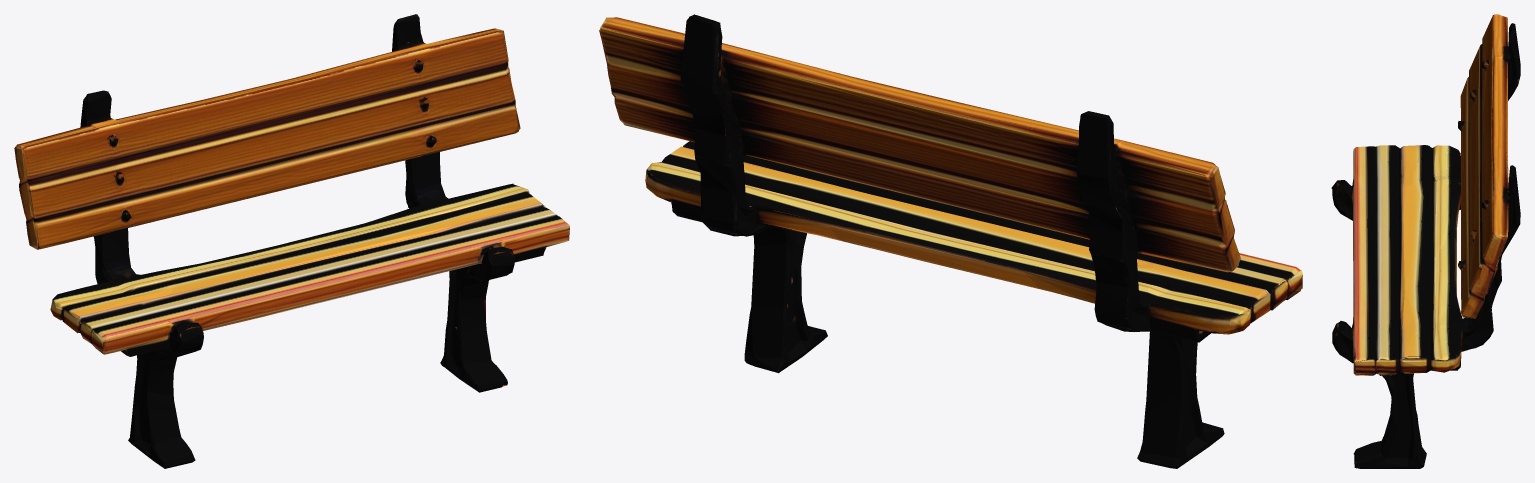
The model's file is bench-hy3d.glb.
3 views of the same model, side by side, from view 1: azimuth 30°, elevation 25°; view 2: azimuth 150°, elevation 25°; view 3: azimuth 270°, elevation 25° (orthographic). The views are drawn at different scales.
Visible parts, largest first — view 1: temp_mesh.ply; view 2: temp_mesh.ply; view 3: temp_mesh.ply.
Part boxes in pixels (x1=…): temp_mesh.ply: x1=14, y1=14, x2=569, y2=468; temp_mesh.ply: x1=599, y1=14, x2=1302, y2=468; temp_mesh.ply: x1=1331, y1=14, x2=1520, y2=468.
Size of the model in its own units: 1.99 by 1.23 by 0.717.
1 material, 1 textured.
